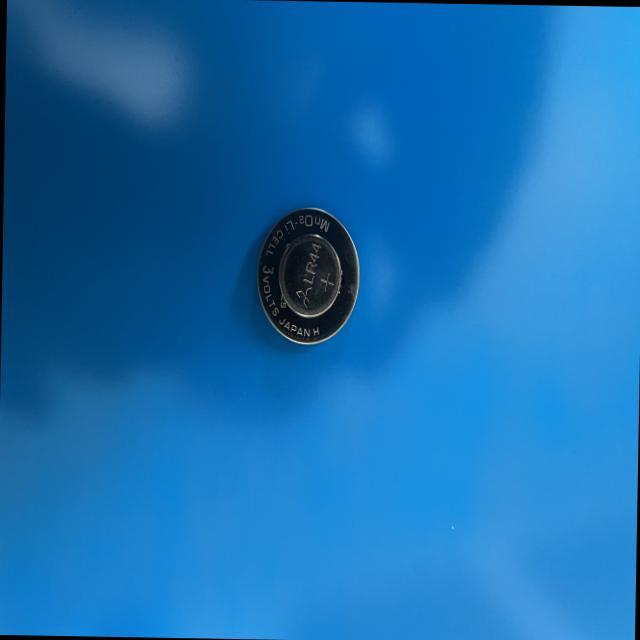COIN: (253, 203, 360, 348), (278, 232, 340, 316)
